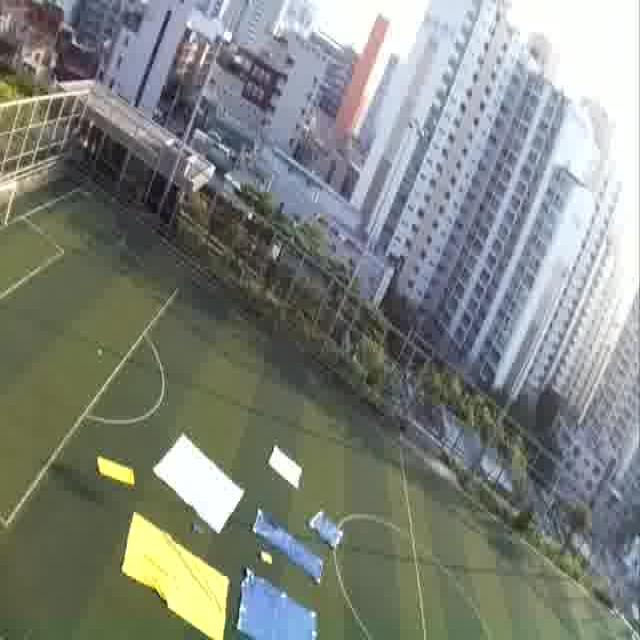danger: (237, 568, 334, 640), (309, 508, 346, 544), (254, 517, 295, 542)
safety: (150, 429, 250, 517), (264, 443, 304, 502)
warning: (125, 537, 225, 632), (92, 452, 138, 492)
